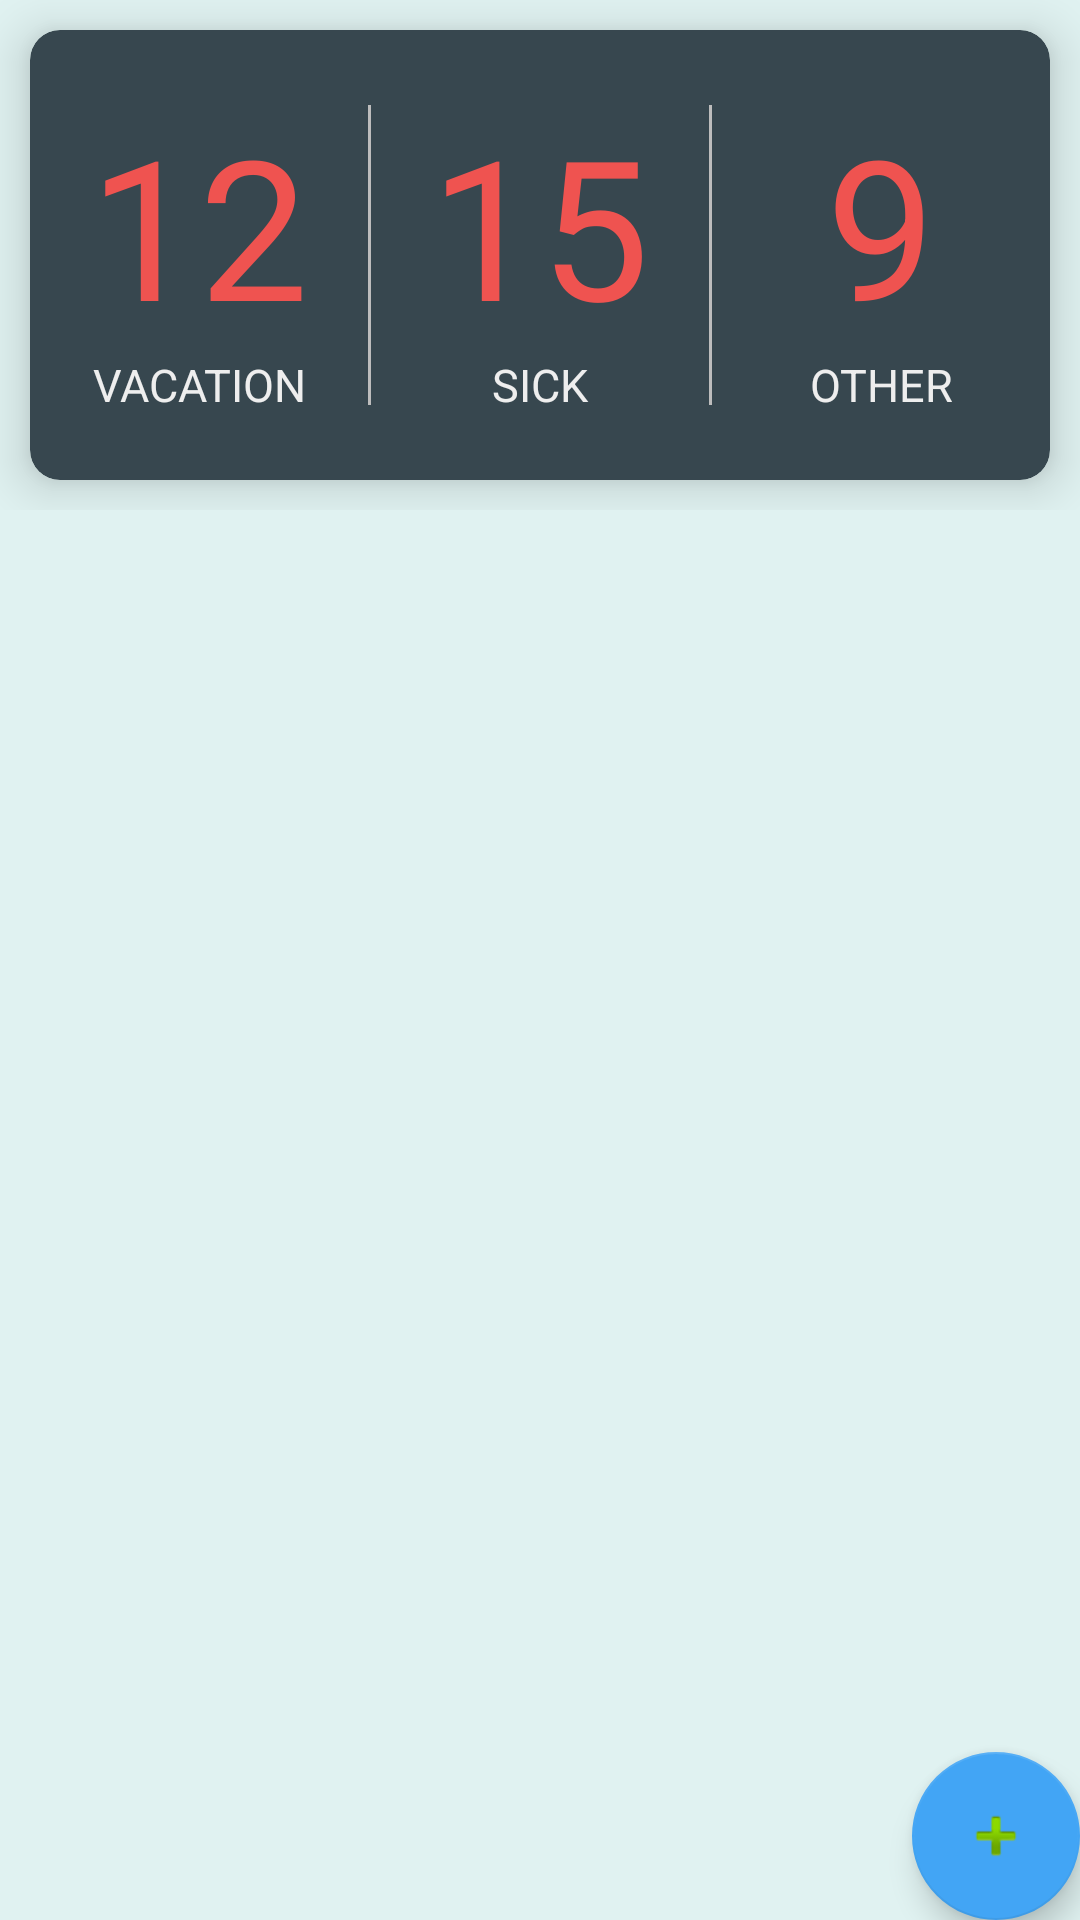

Icon bounding boxes for this 1080×1920 phone screenshot, format region(x1, y1, x2, y2):
add: region(912, 1752, 1080, 1920)
